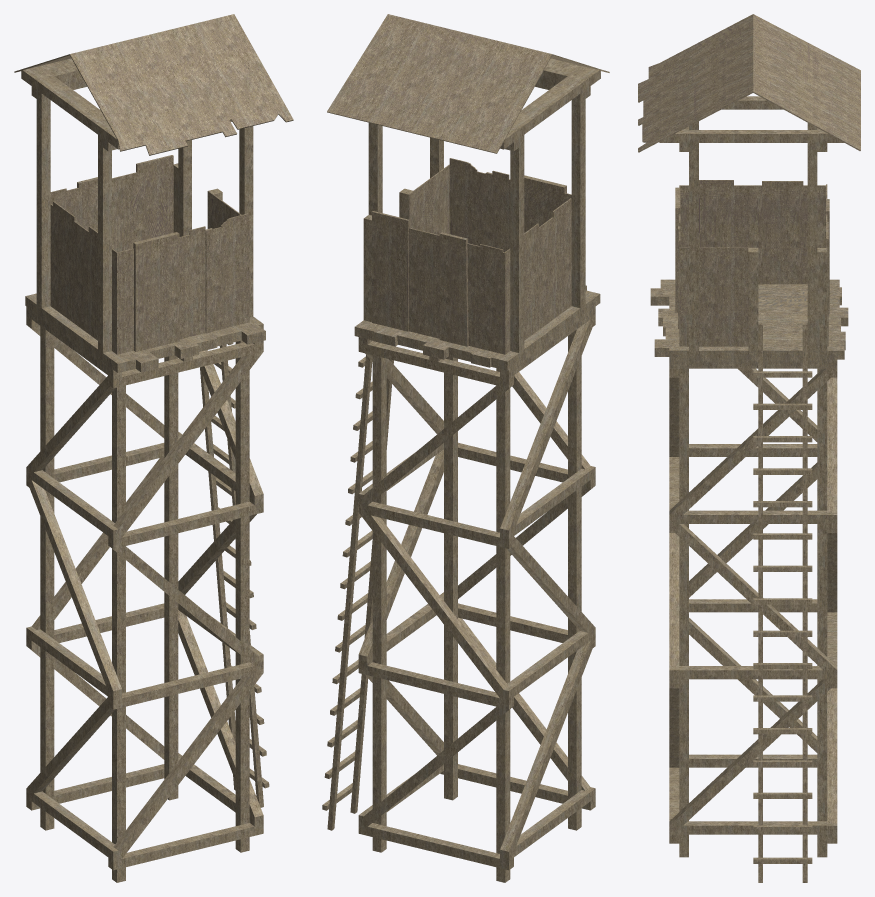
The model's file is tower.fbx.
The picture shows the model from 3 angles, left to right: view 1: azimuth 30°, elevation 25°; view 2: azimuth 150°, elevation 25°; view 3: azimuth 270°, elevation 25°; orthographic projection. The views are drawn at different scales.
Visible parts, largest first — view 1: Model; view 2: Model; view 3: Model.
Boxes of the visible parts, x1,y1,x2,y2 form: Model: (14,14,293,882); Model: (322,14,609,882); Model: (638,14,860,882).
Size of the model in its own units: 72.32 by 273 by 71.09.
